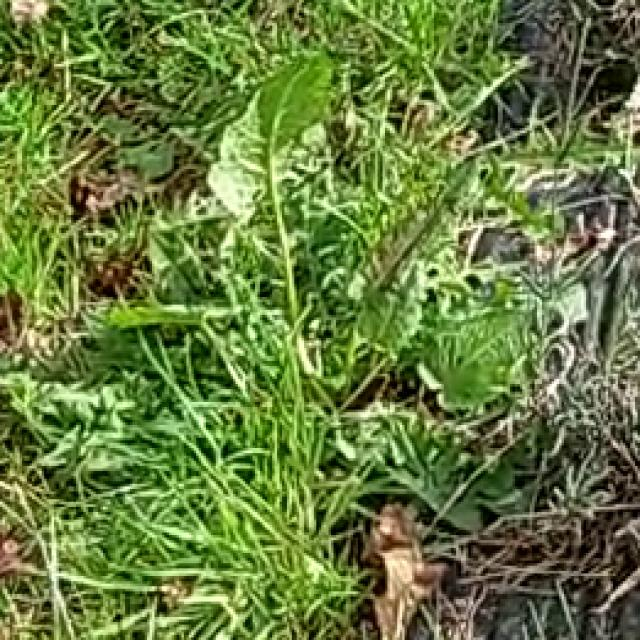organic waste: (152, 77, 486, 415)
